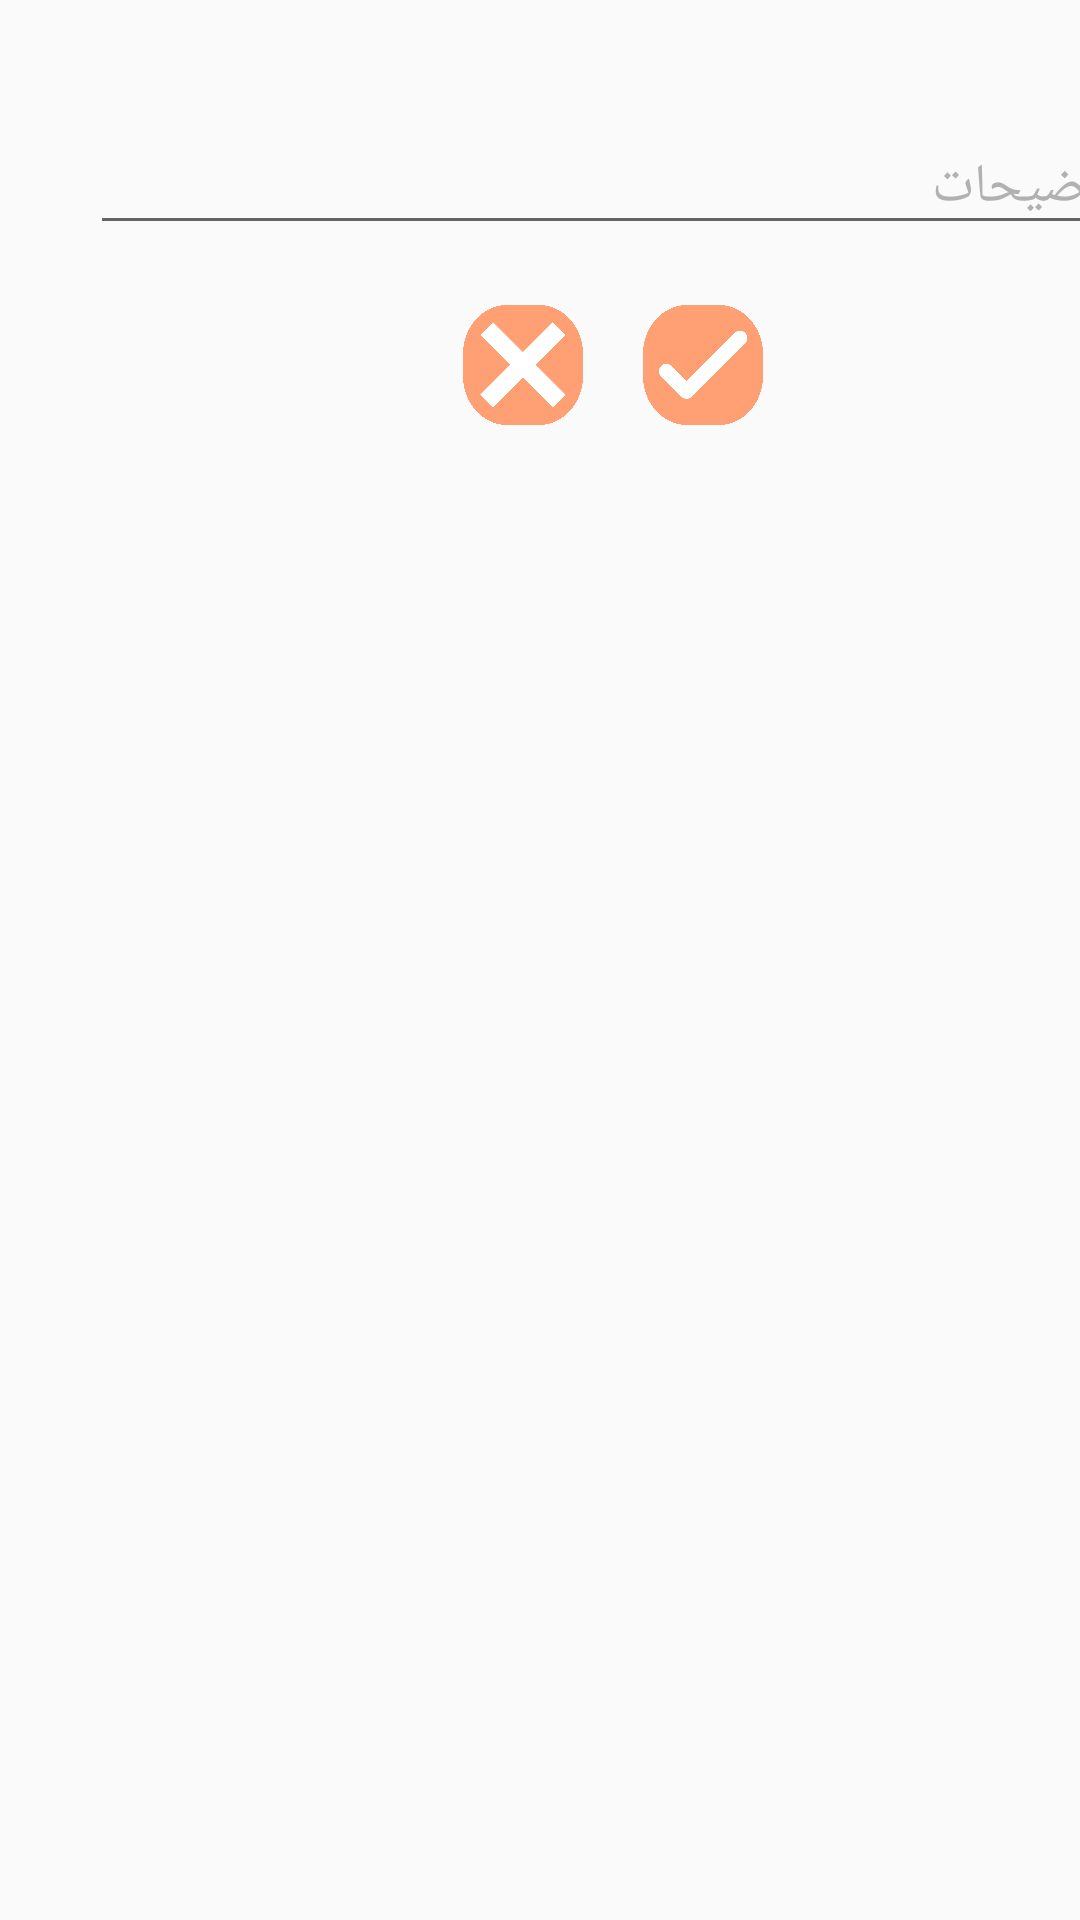

Icon click points for this 1080px×1920px phone screenshot, format [x,y]:
commit mark: [703,365]
